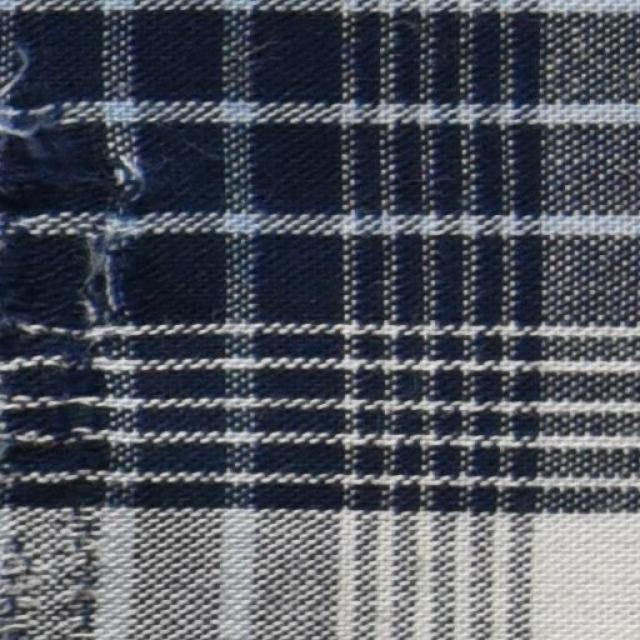Snag: (0, 40, 139, 512)
